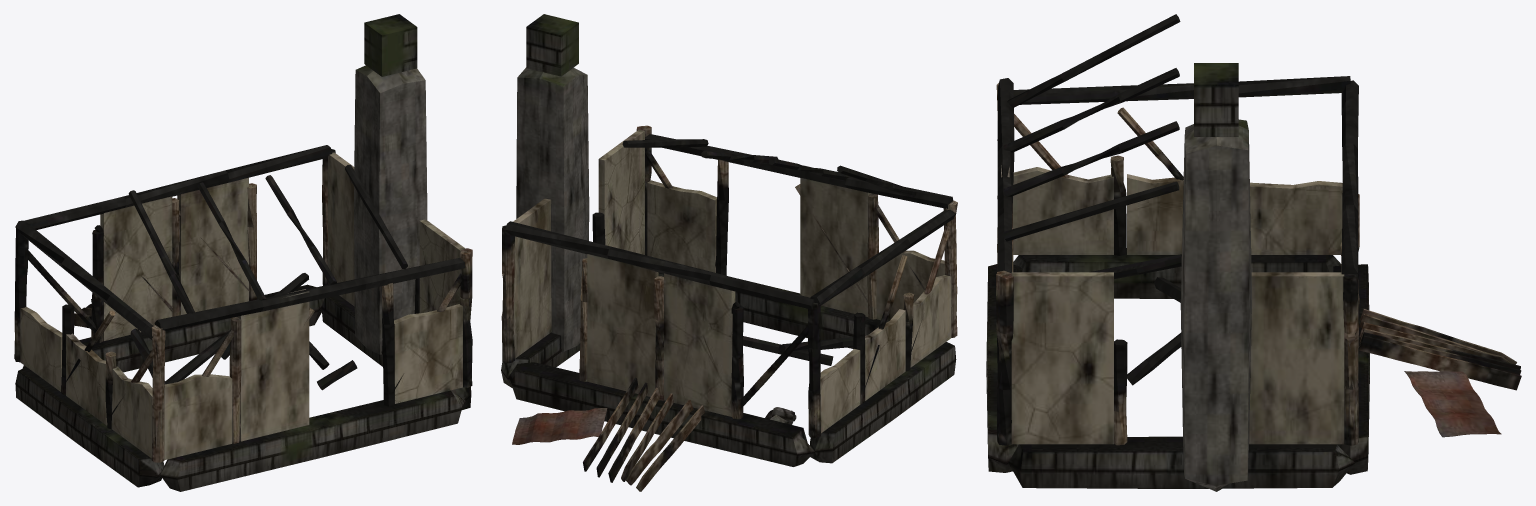
Rendered from house_ruin_b.glb.
3 views of the same model, side by side, from view 1: azimuth 30°, elevation 25°; view 2: azimuth 150°, elevation 25°; view 3: azimuth 270°, elevation 25° (orthographic). The views are drawn at different scales.
Visible parts, largest first — view 1: house_ruin_b; view 2: house_ruin_b; view 3: house_ruin_b.
Boxes of the visible parts, x1=… form: house_ruin_b: x1=14, y1=14, x2=472, y2=491; house_ruin_b: x1=501, y1=14, x2=957, y2=491; house_ruin_b: x1=986, y1=14, x2=1521, y2=491.
Size of the model in its own units: 8.1 by 7.3 by 8.37.
1 material, 1 textured.
